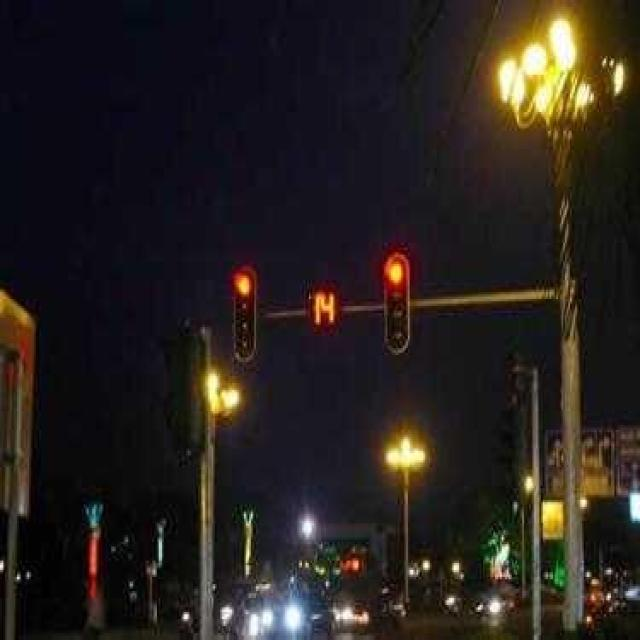Traffic Light -Red-: (221, 262, 266, 368), (374, 250, 414, 362)
